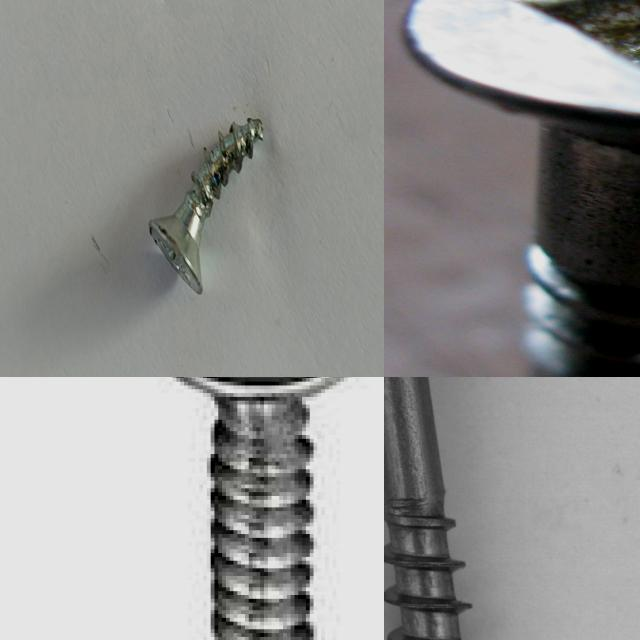Screw: (394, 0, 640, 377), (178, 377, 351, 640), (384, 377, 547, 640), (149, 118, 263, 293)
